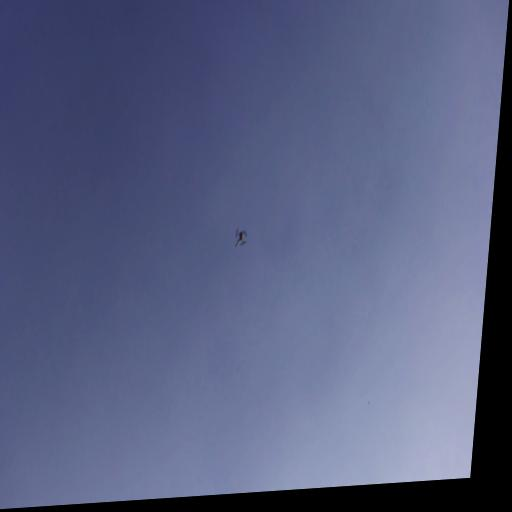drones: (233, 225, 249, 249)
